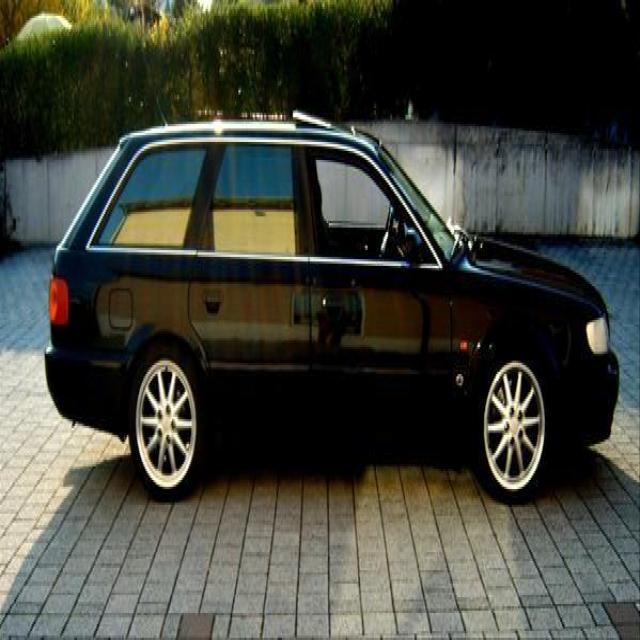car: (45, 48, 621, 504)
